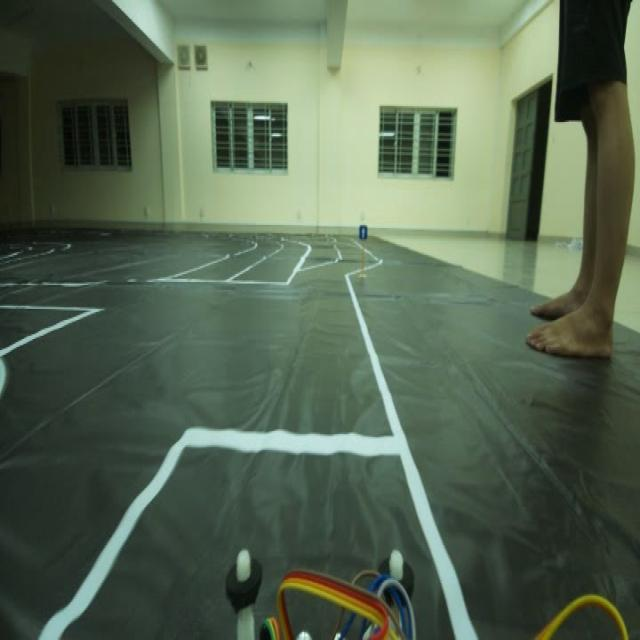onewayroad: (356, 220, 371, 249)
